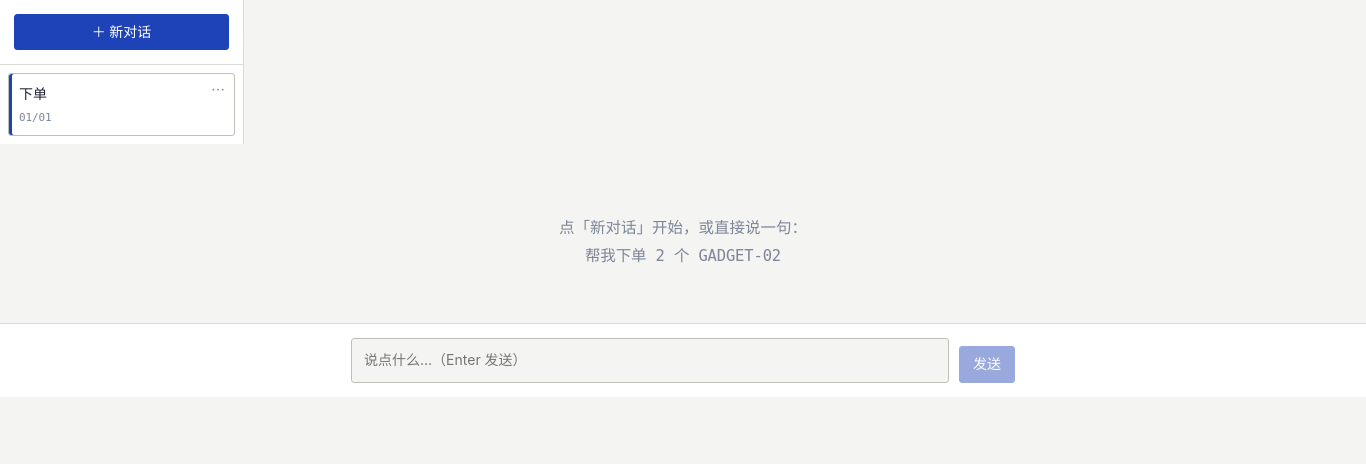
Test case: 停止运行中的一轮 › 停止以 cancelled 收尾：保留半截回复、不弹错误，停止入口随之消失
Type "帮我下单 2 个 GADGET-02" into the text box with placeholder "说点什么…（Enter 发送）" at (650, 360), box [351,338,949,383]
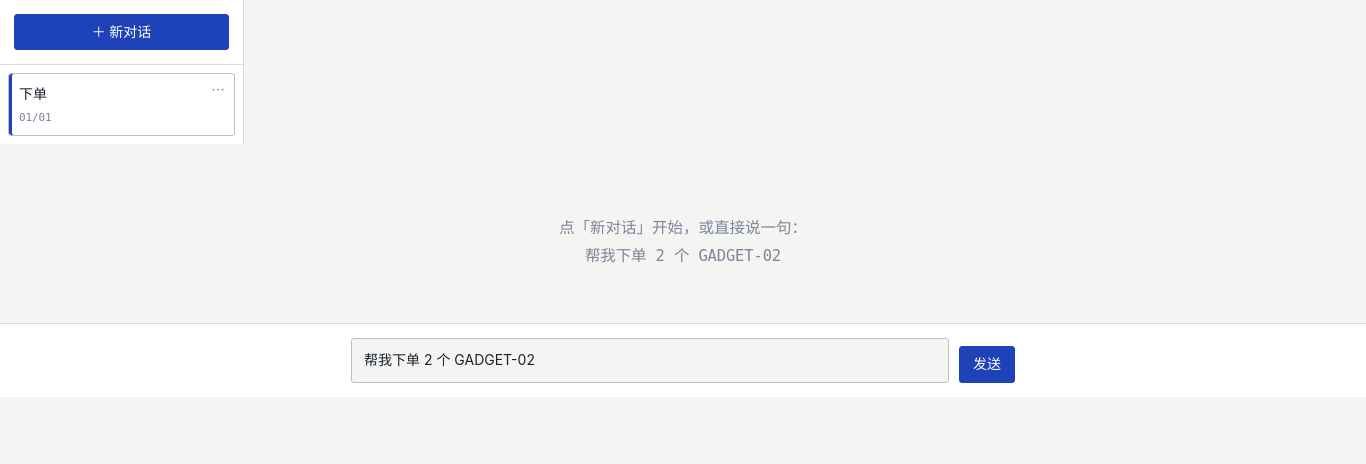
Click the button "发送" at (987, 364), box [959,346,1015,383]
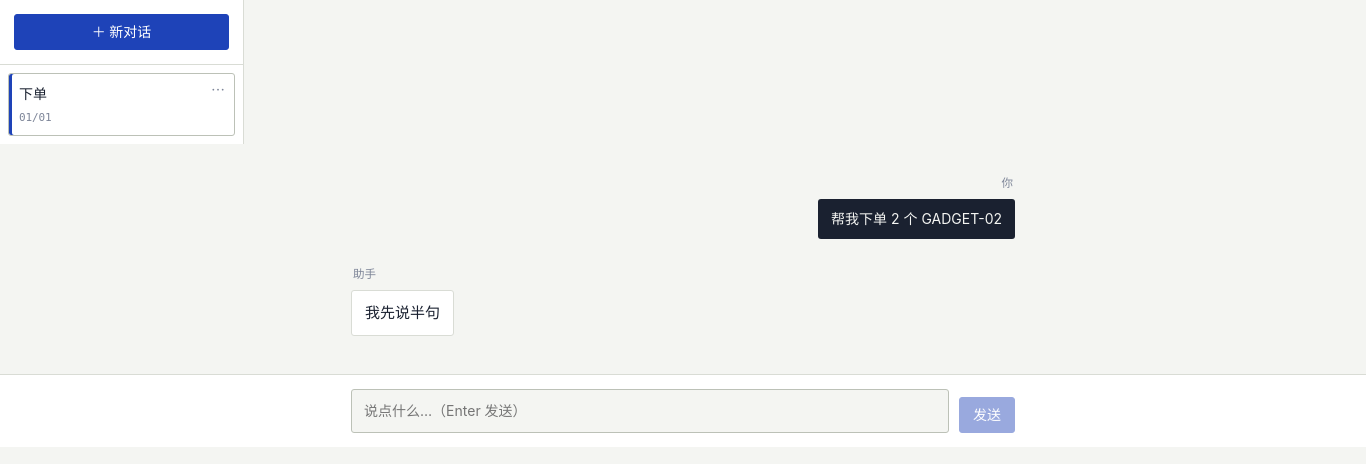
Expected: the text "我先说半句" is shown, [365,300,440,326]
